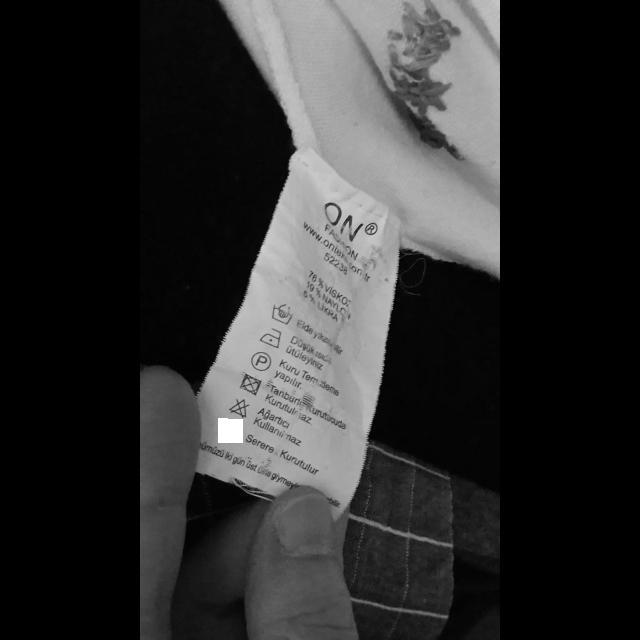DN_bleach: (228, 398, 252, 418)
DN_tumble_dry: (238, 372, 262, 396)
hand_wash: (270, 301, 294, 325)
iron_low: (258, 326, 284, 349)
normal_dry_clean_solvents: (250, 351, 272, 372)
